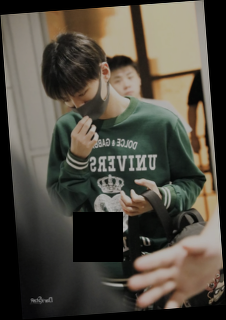with_mask: (59, 80, 105, 122)
without_mask: (109, 71, 140, 102)
